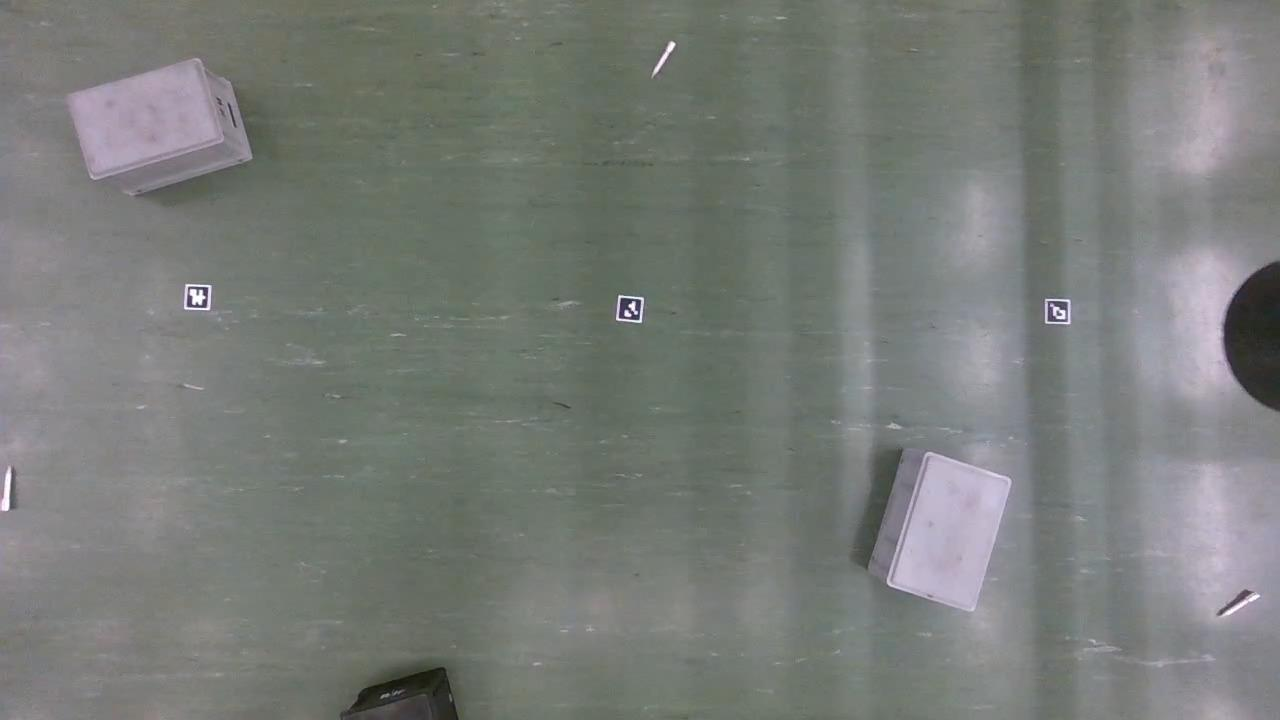probes: (1218, 589, 1258, 619), (655, 43, 676, 79), (2, 468, 14, 513)
rako: (67, 59, 253, 199), (866, 452, 1012, 616), (340, 669, 461, 720)
